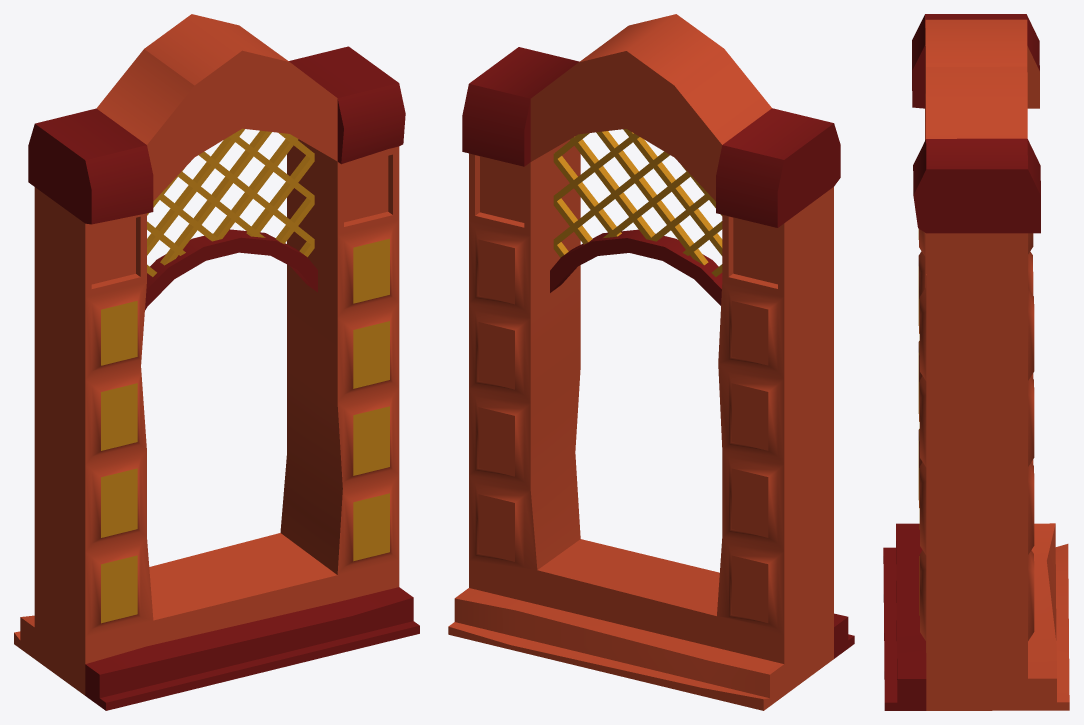
The model's file is Window.FBX.
3 renders of one model, left to right at view 1: azimuth 30°, elevation 25°; view 2: azimuth 150°, elevation 25°; view 3: azimuth 270°, elevation 25°, orthographic.
Visible parts, largest first — view 1: Window003; view 2: Window003; view 3: Window003.
Part boxes in pixels (x1,y1,x2,y2): Window003: (14, 14, 419, 710); Window003: (448, 14, 854, 710); Window003: (883, 14, 1069, 710).
Size of the model in its own units: 46.28 by 85.14 by 23.42.
